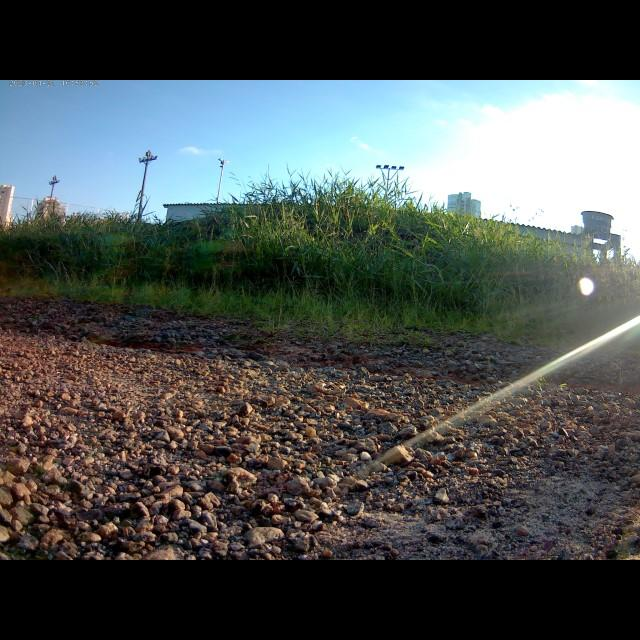ravina: (102, 335, 640, 392)
